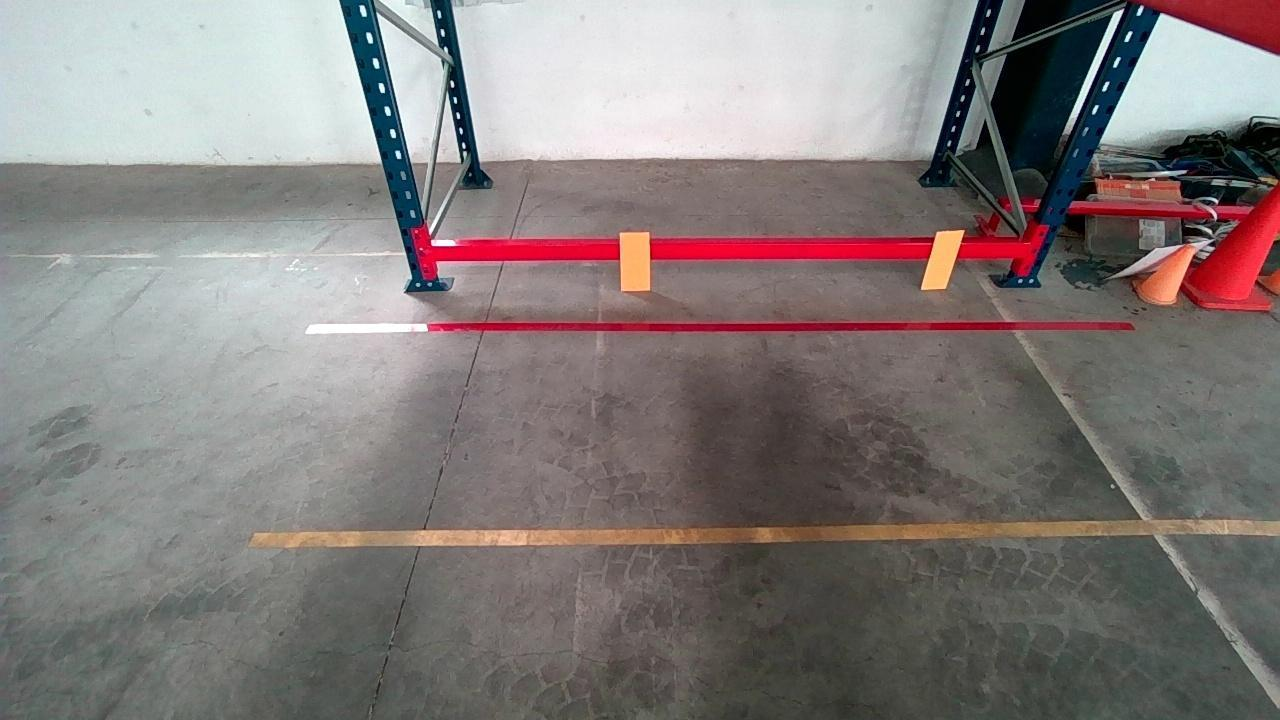h_rack: (433, 243, 1024, 264)
orange_strip: (921, 230, 967, 289), (620, 230, 651, 291)
red_line: (302, 321, 1134, 339)
yellow_line: (249, 517, 1280, 547)
